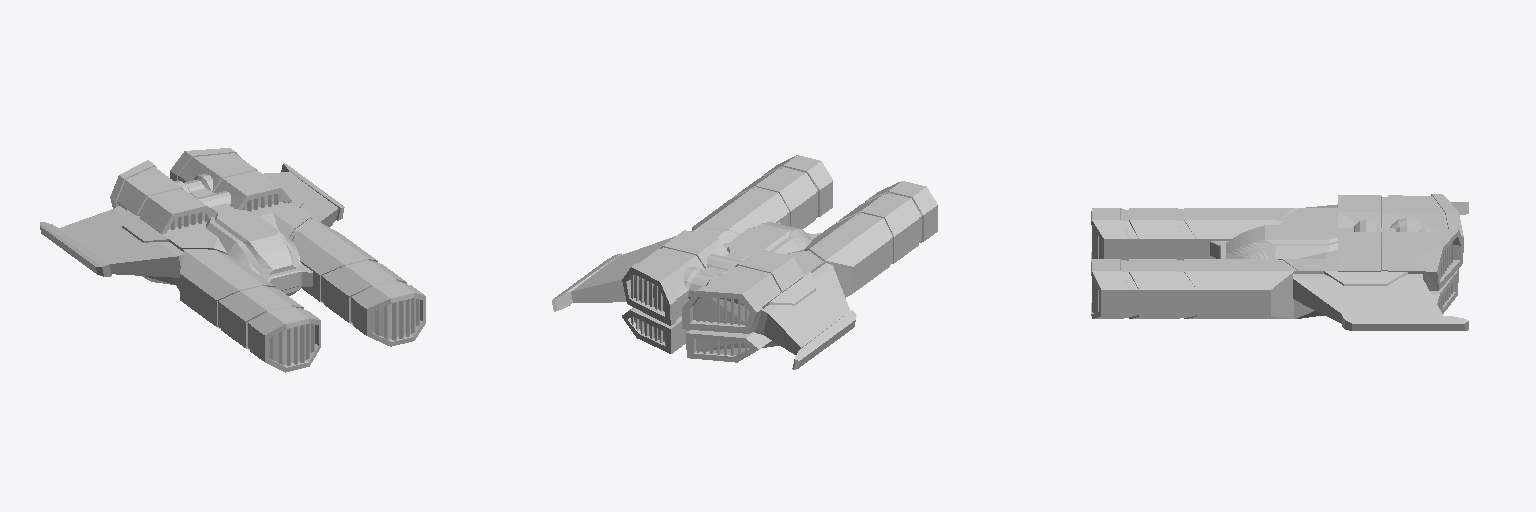
File: bomber.obj
3 renders of one model, left to right at view 1: azimuth 30°, elevation 25°; view 2: azimuth 150°, elevation 25°; view 3: azimuth 270°, elevation 25°, orthographic.
Visible parts, largest first — view 1: Cube.009; view 2: Cube.009; view 3: Cube.009.
Part boxes in pixels (left/top/right/bottom): Cube.009: left=40, top=148, right=425, bottom=372; Cube.009: left=552, top=155, right=937, bottom=369; Cube.009: left=1091, top=194, right=1468, bottom=330.
Bounding box in the file's own units: 174 × 47.08 × 230.